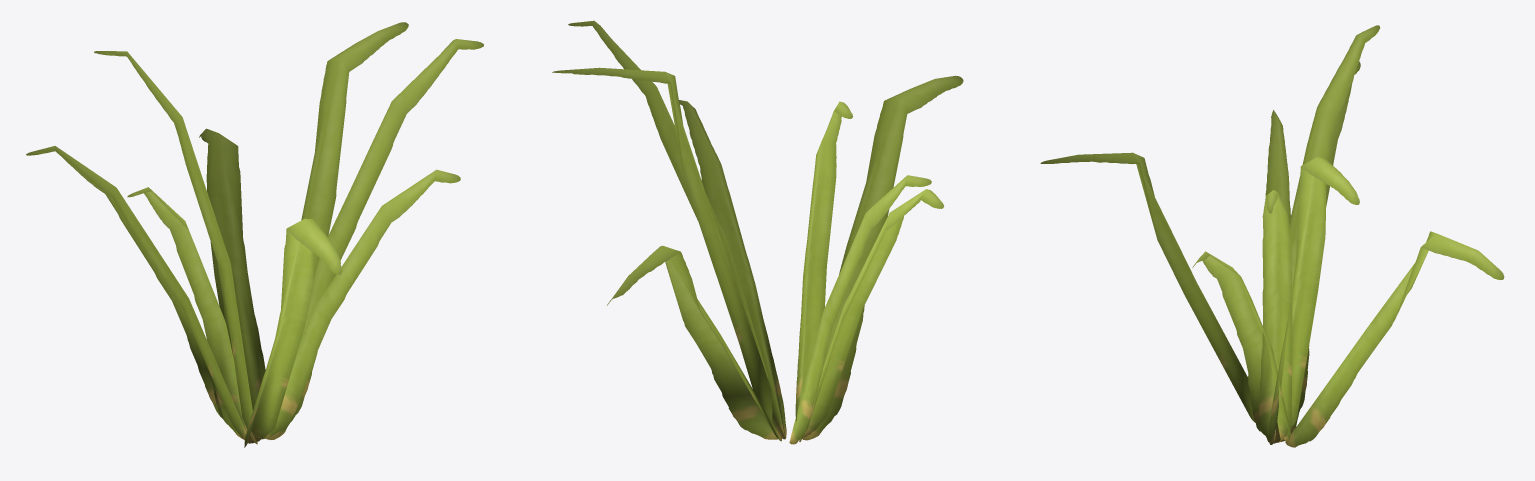
The model's file is grass1.fbx.
3 renders of one model, left to right at view 1: azimuth 30°, elevation 25°; view 2: azimuth 150°, elevation 25°; view 3: azimuth 270°, elevation 25°, orthographic. The views are drawn at different scales.
Parts seen in each view (by area): view 1: stylizedtropical01_0; view 2: stylizedtropical01_0; view 3: stylizedtropical01_0.
Boxes of the visible parts, x1=… form: stylizedtropical01_0: x1=26, y1=22, x2=483, y2=447; stylizedtropical01_0: x1=552, y1=20, x2=963, y2=444; stylizedtropical01_0: x1=1040, y1=25, x2=1504, y2=447.
Size of the model in its own units: 102 by 89.13 by 107.
